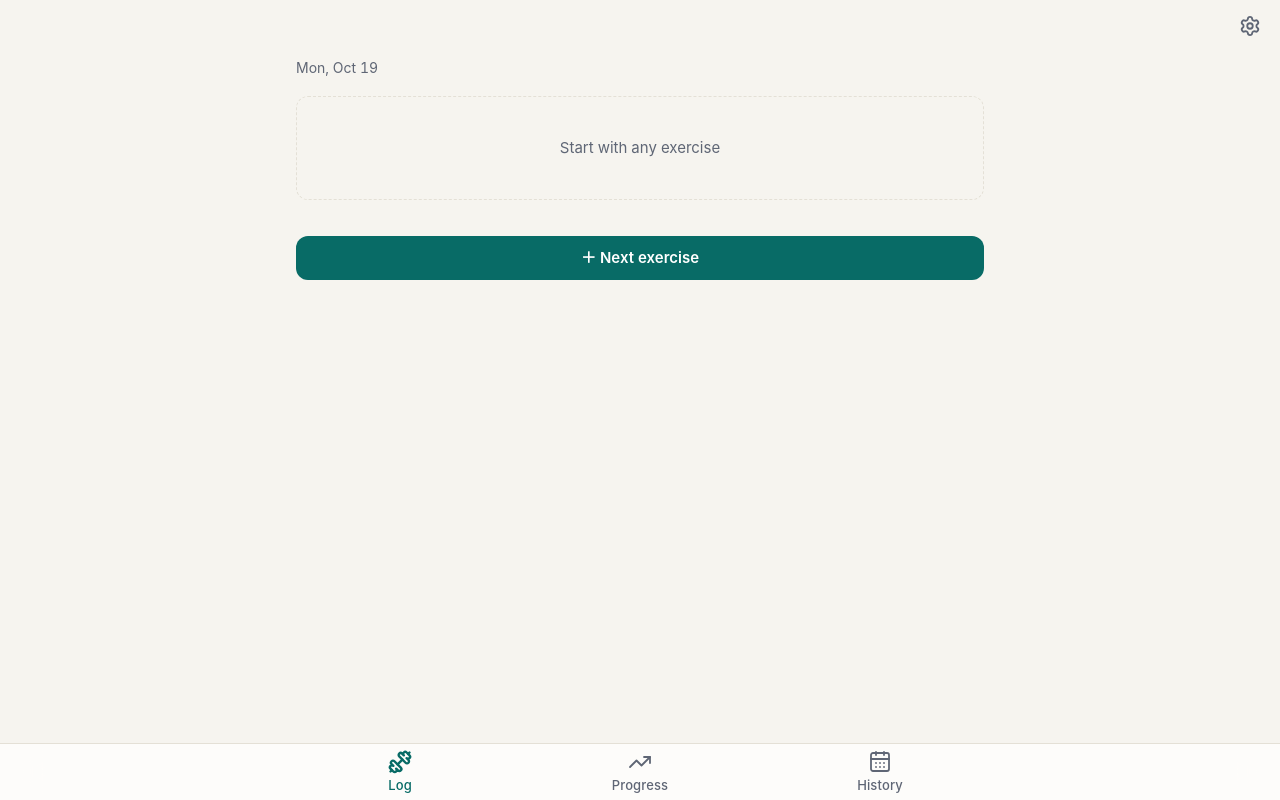
Test: History tab › opens on this month with the latest workout selected
Click the tab "History" at (880, 772), box x1=760 y1=744 x2=1000 y2=799
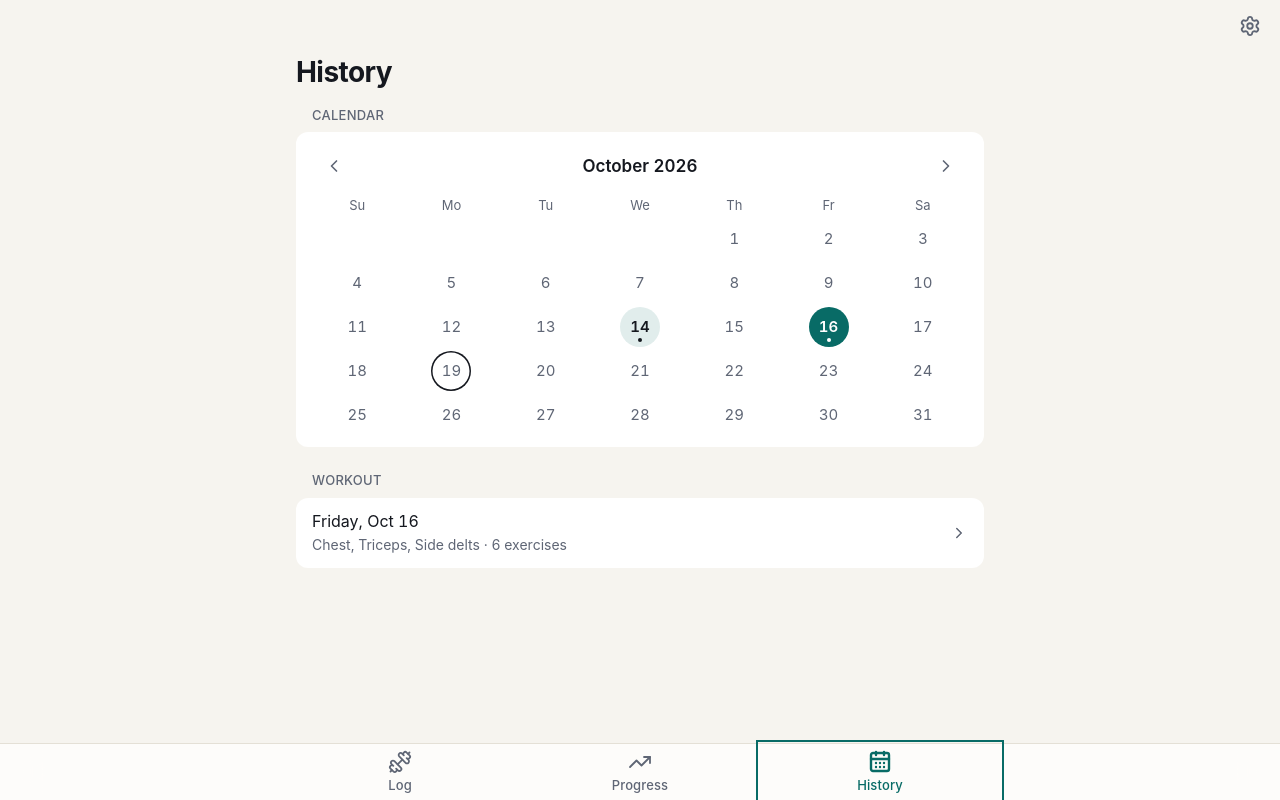
Expected: the heading "October 2026" is shown, x1=582 y1=154 x2=698 y2=179
Expected: the button "Friday, Oct 16 Chest, Triceps, Side delts · 6 exercises" is shown, x1=296 y1=498 x2=984 y2=568
